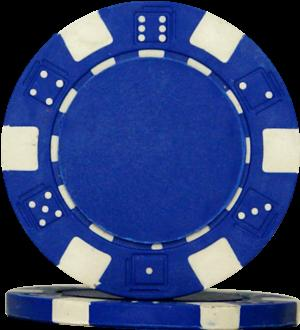chip-blue: (2, 2, 298, 299), (5, 285, 299, 330)
